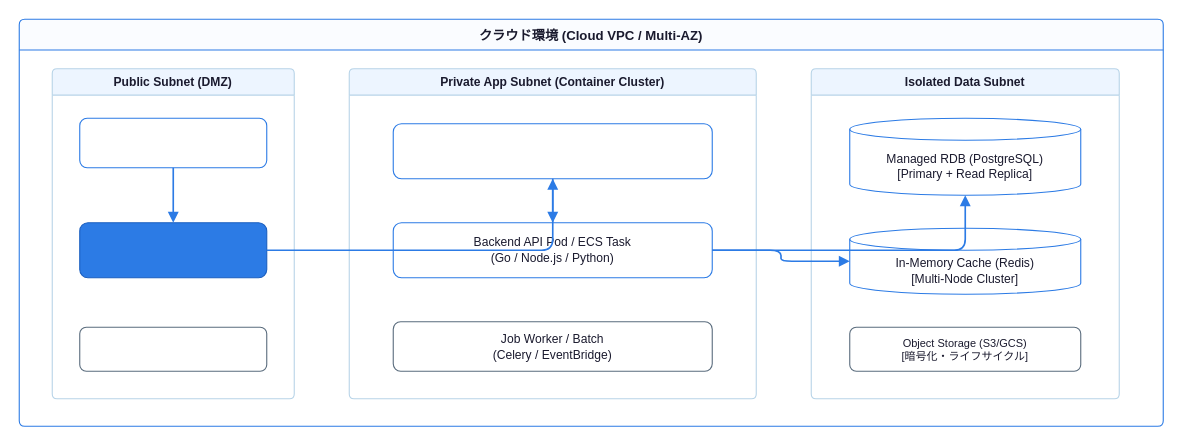
Some shapes in this 1183 by 446 pixel diagram are drawn without their labels. Here are the shapes that lost their labels. From the top down, the centre of each, then its label:
(x=173, y=142): Cloud WAF / CDN (DDoS防御)
(x=552, y=151): Frontend Pod / ECS Task (SSR / Nuxt・Next)
(x=173, y=250): Application Load Balancer (TLS Termination)
(x=173, y=348): NAT Gateway (Egress通信)
